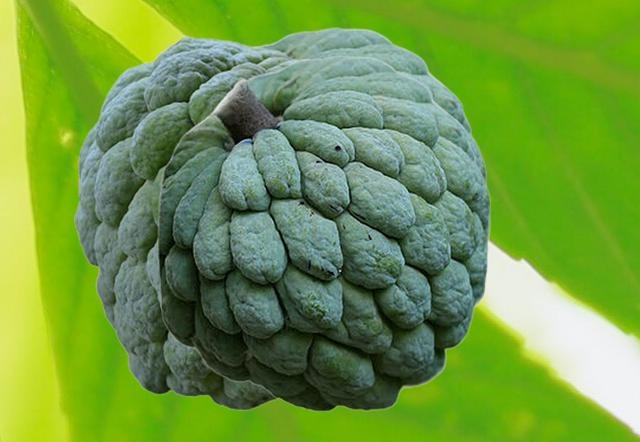atis: (157, 55, 490, 411), (74, 36, 311, 409), (256, 27, 486, 181)
